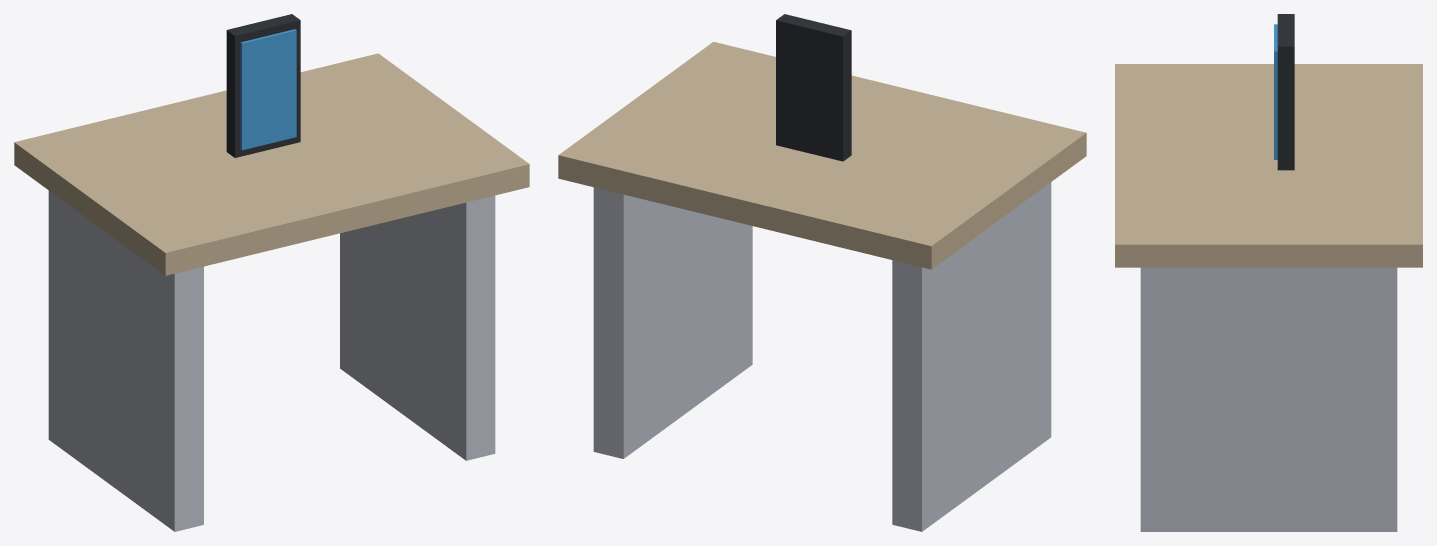
Rendered from station_special_1.glb.
3 views of the same model, side by side, from view 1: azimuth 30°, elevation 25°; view 2: azimuth 150°, elevation 25°; view 3: azimuth 270°, elevation 25° (orthographic). The views are drawn at different scales.
Parts seen in each view (by area): view 1: tisch_platte, tisch_bein, tisch_bein.001, handy_schirm, handy_koerper; view 2: tisch_platte, tisch_bein, tisch_bein.001, handy_koerper; view 3: tisch_bein.001, tisch_platte, handy_koerper, handy_schirm.
Boxes of the visible parts, x1,y1,x2,y2 form: tisch_platte: (14,53,529,275); tisch_bein: (48,190,203,531); tisch_bein.001: (340,195,495,460); handy_schirm: (240,29,296,150); handy_koerper: (226,14,300,157); tisch_platte: (558,41,1086,269); tisch_bein: (892,182,1051,531); tisch_bein.001: (593,187,752,458); handy_koerper: (776,14,851,161); tisch_bein.001: (1140,267,1397,531); tisch_platte: (1115,64,1422,267); handy_koerper: (1277,14,1294,170); handy_schirm: (1274,24,1277,159).
Bounding box in the file's own units: 0.5 × 0.545 × 0.36.
